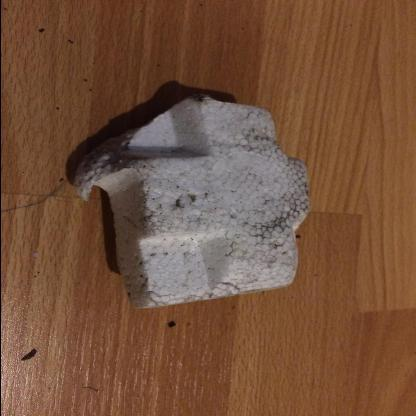kopuk: (66, 95, 314, 312)
